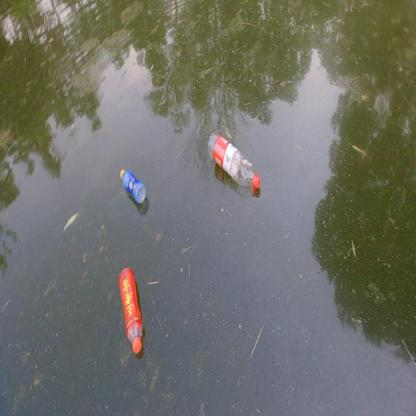plastic bottle: (209, 132, 260, 192), (118, 268, 144, 353), (120, 169, 146, 202)
